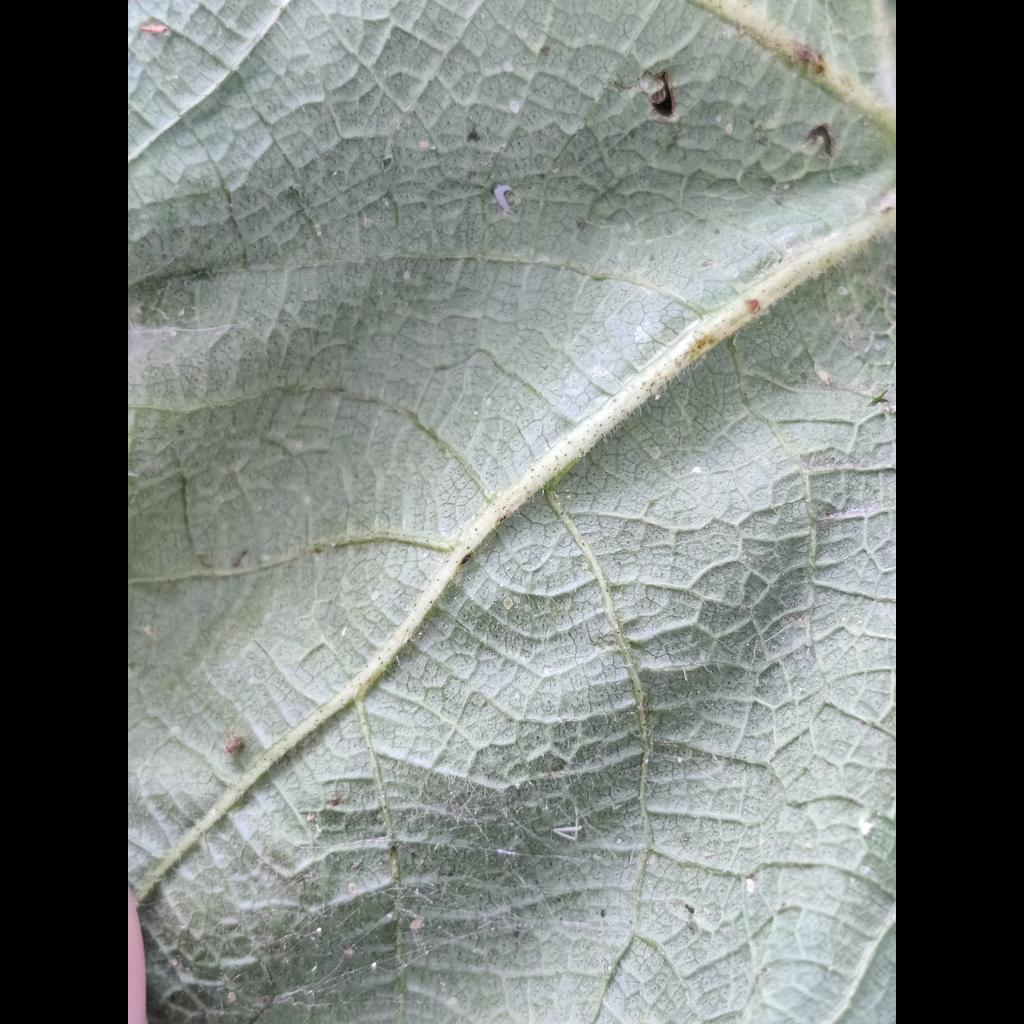nymph: (745, 878, 758, 898), (508, 99, 521, 116), (818, 370, 831, 385), (501, 62, 516, 73), (836, 285, 849, 296), (503, 597, 514, 610), (370, 589, 380, 600), (347, 883, 357, 894), (725, 122, 733, 135), (690, 465, 701, 474), (403, 269, 411, 281), (341, 626, 347, 636), (655, 394, 661, 401)
